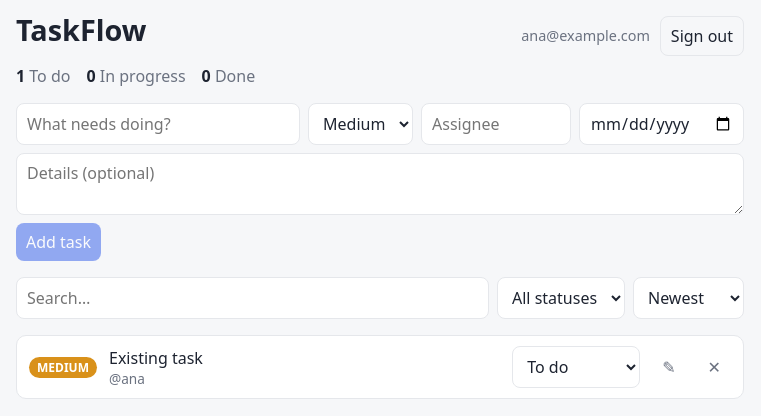
it: tasks › changes status and deletes
expect the text "Existing task" is shown: met, box [109, 346, 203, 368]
Select "Done" in the dropdown named "Status of Existing task" at (576, 367), box [512, 346, 640, 388]
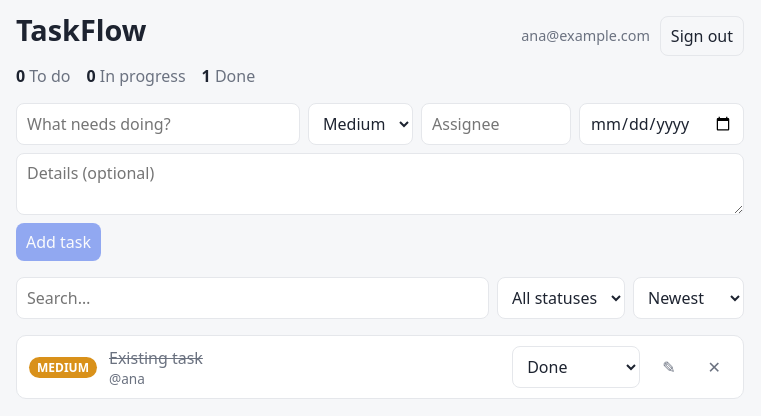
expect the list named "Task counts" shows "1 Done": met, box [16, 65, 255, 87]
Click the button named "Delete Existing task" at (714, 367), box [698, 348, 731, 386]
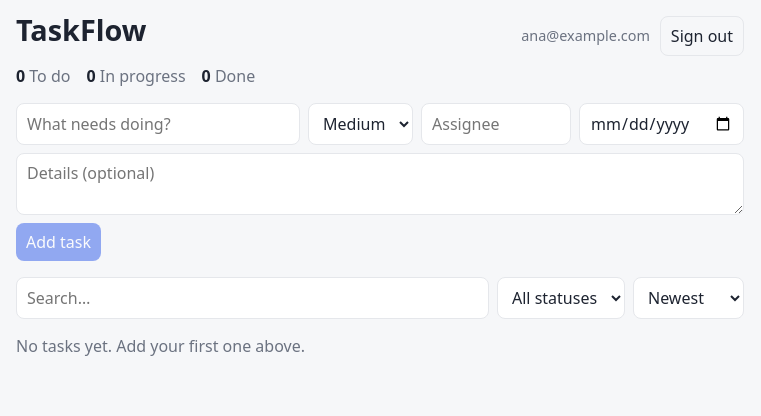
expect the text "No tasks yet. Add your first one above." is shown: met, box [16, 335, 305, 357]
